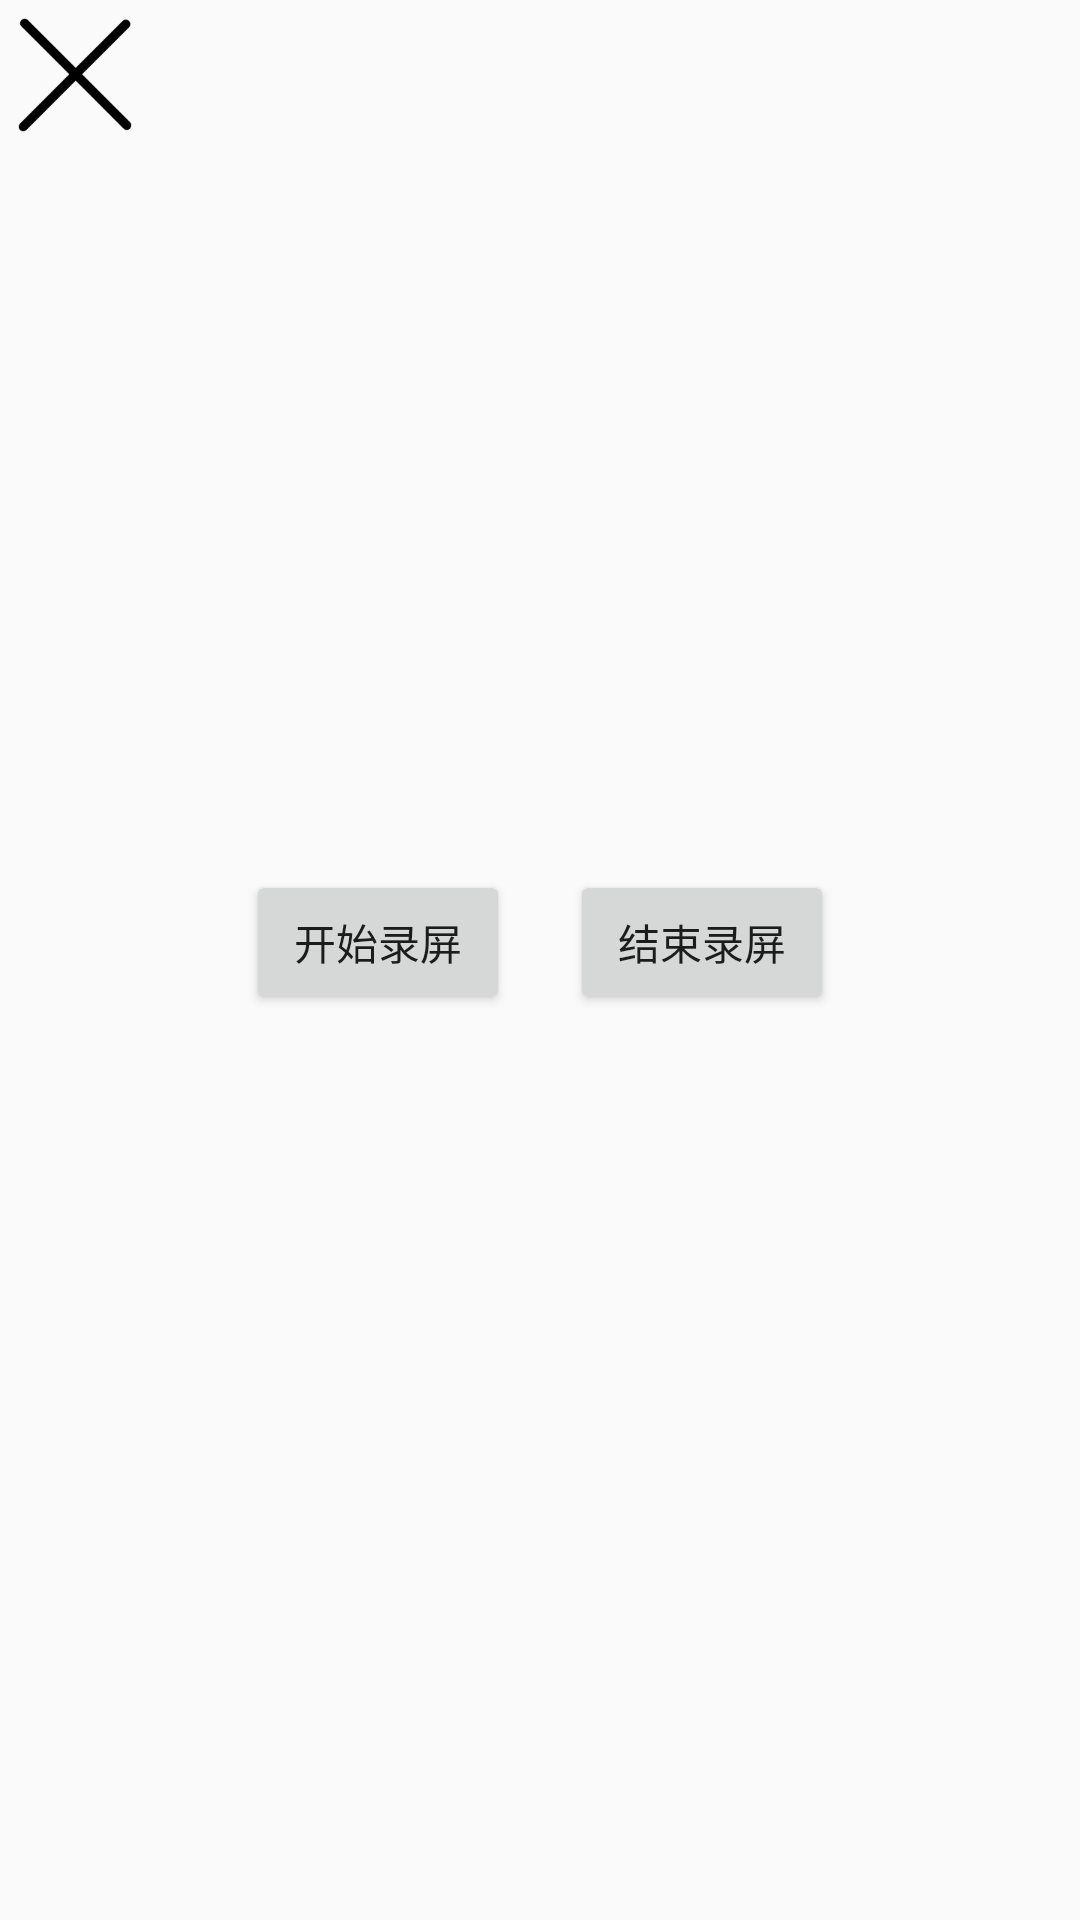

Icon bounding boxes for this 1080x1920 phone screenshot, format BBox(x1, y1, x2, y2):
cancel: BBox(18, 18, 132, 132)
